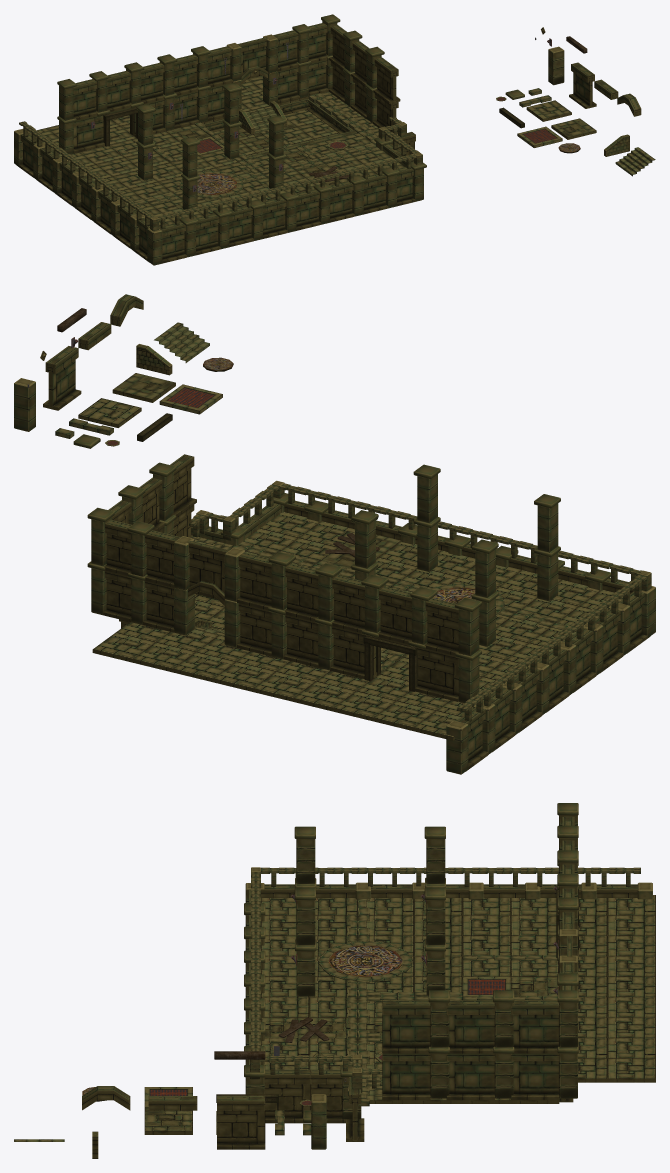
File: Unity2Skfb.gltf
3 views of the same model, one above another, from view 1: azimuth 30°, elevation 25°; view 2: azimuth 150°, elevation 25°; view 3: azimuth 270°, elevation 25° (orthographic). The views are drawn at different scales.
Visible parts, largest first — view 1: Cube.049 (×2), Cube.195 (×2), Cube.145 (×2), Cube.049 (9), Cube.049 (28), Cube.049 (27), Cube.049 (26), Cube.049 (40), Cube.049 (25), Cube.049 (12), Cube.049 (22), Cube.049 (8) (+55 smaller); view 2: Cube.049 (×2), Cube.049 (9), Cube.048 (×2), Cube.049 (24), Cube.049 (27), Cube.049 (28), Cube.049 (25), Cube.049 (26), Cube.049 (29), Cube.049 (23), Cube.049 (1), Cube.049 (2) (+61 smaller); view 3: Cube.049, Cube.049 (22), Cube.049 (20), Cube.049 (21), Cube.049 (7), Cube.049 (5), Cube.049 (6), Cube.049 (16), Cube.145 (×2), Circle, Cube.170 (×2), Cube.049 (17) (+66 smaller).
Part boxes in pixels (box(x1,y1,x2,y2)): Cube.049 (×2): box(132, 62, 596, 136); Cube.195 (×2): box(245, 106, 655, 176); Cube.145 (×2): box(166, 118, 596, 143); Cube.049 (9): box(73, 114, 105, 153); Cube.049 (28): box(70, 79, 98, 120); Cube.049 (27): box(103, 70, 131, 111); Cube.049 (26): box(137, 62, 164, 103); Cube.049 (40): box(158, 221, 186, 264); Cube.049 (25): box(174, 54, 198, 95); Cube.049 (12): box(293, 189, 321, 231); Cube.049 (22): box(373, 57, 400, 103); Cube.049 (8): box(192, 213, 220, 256); Cube.049 (×2): box(43, 346, 377, 678); Cube.049 (9): box(414, 647, 458, 701); Cube.048 (×2): box(14, 378, 333, 670); Cube.049 (24): box(237, 552, 276, 610); Cube.049 (27): box(377, 586, 417, 644); Cube.049 (28): box(424, 598, 463, 655); Cube.049 (25): box(284, 564, 318, 621); Cube.049 (26): box(332, 575, 370, 632); Cube.049 (29): box(186, 540, 229, 599); Cube.049 (23): box(145, 530, 183, 589); Cube.049 (1): box(283, 615, 323, 668); Cube.049 (2): box(237, 603, 276, 657); Cube.049: box(217, 1096, 265, 1149); Cube.049 (22): box(382, 1000, 430, 1053); Cube.049 (20): box(511, 1000, 559, 1053); Cube.049 (21): box(446, 1000, 494, 1053); Cube.049 (7): box(382, 1053, 430, 1100); Cube.049 (5): box(511, 1053, 559, 1100); Cube.049 (6): box(446, 1053, 494, 1100); Cube.049 (16): box(264, 1069, 310, 1123); Cube.145 (×2): box(144, 976, 558, 1134); Circle: box(328, 945, 402, 976); Cube.170 (×2): box(144, 976, 510, 1110); Cube.049 (17): box(311, 1069, 345, 1123).
Bounding box in the file's own units: 45.24 × 12.15 × 39.84.
Materials: 1 (1 with a texture image).
